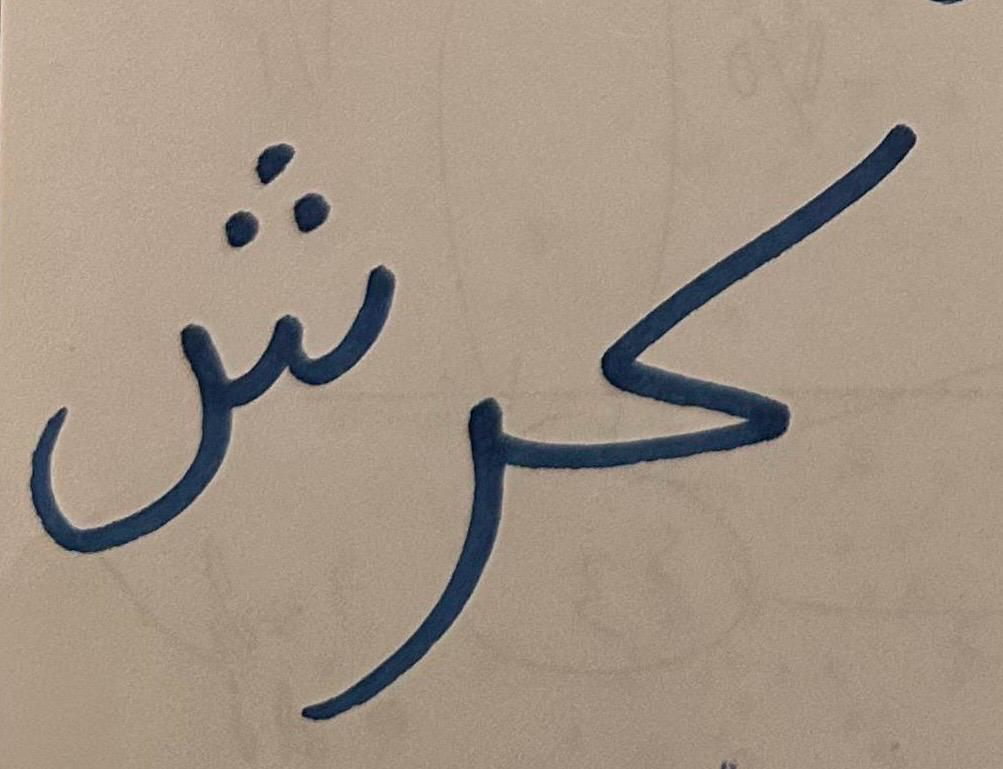khah: (563, 36, 969, 647)
sad: (418, 251, 559, 740)
tah: (5, 65, 410, 584)
